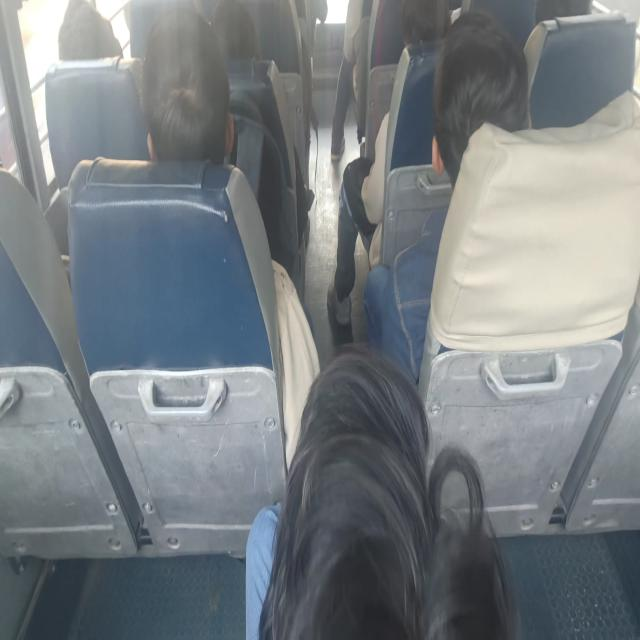person: (139, 6, 320, 472), (245, 342, 518, 638), (362, 9, 532, 384), (326, 0, 452, 335), (140, 7, 234, 164), (330, 0, 404, 161), (330, 0, 366, 161), (57, 0, 124, 61)
